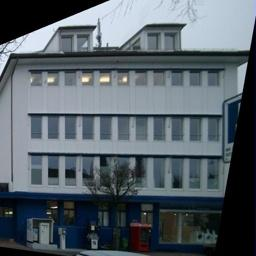building: (10, 23, 249, 242)
